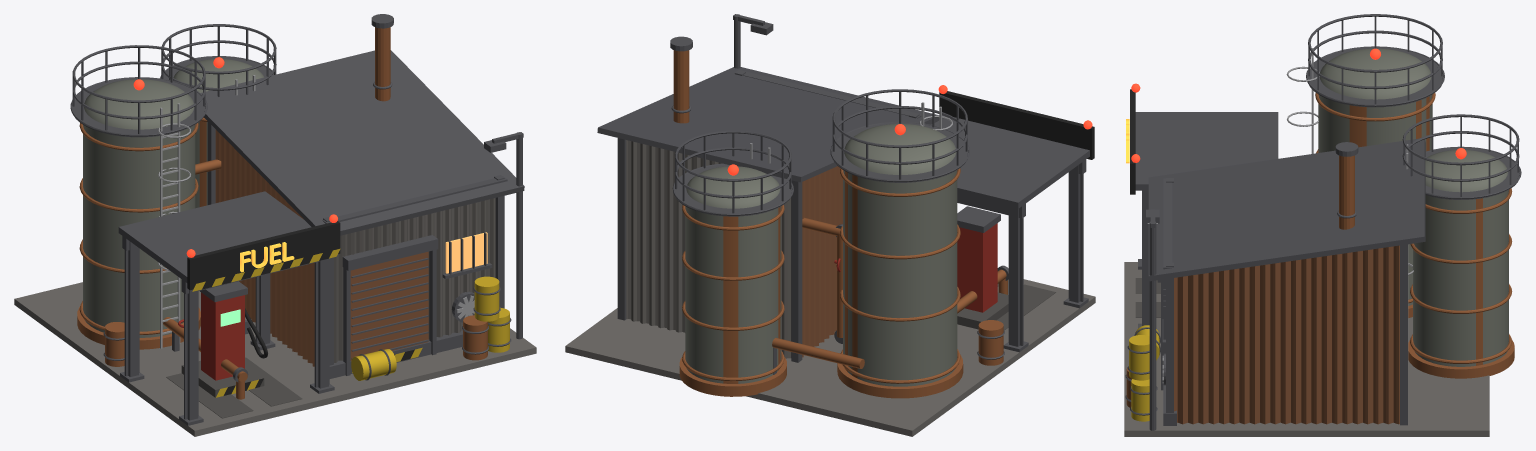
File: fuel_station.glb
3 views of the same model, side by side, from view 1: azimuth 30°, elevation 25°; view 2: azimuth 150°, elevation 25°; view 3: azimuth 270°, elevation 25° (orthographic).
Visible parts, largest first — view 1: ShedRoof, TankA, Pad, Canopy, RollerDoor, ShedFront, ShedSides, CanopyFascia, Drums, Pump, ShedFrame, TankARail (+11 smaller); view 2: TankA, TankB, Pad, ShedRoof, Canopy, ShedFront, ShedSides, ShedFrame, Pump, CanopyFascia, TankARail, Pipes (+6 smaller); view 3: ShedSides, ShedRoof, TankB, Pad, Canopy, TankA, ShedFrame, TankARail, TankBRail, TankADeck, Drums, LampPost (+4 smaller).
Boxes of the visible parts, x1,y1,x2,y2 form: ShedRoof: (200, 50, 524, 235); TankA: (77, 79, 200, 349); Pad: (14, 282, 536, 436); Canopy: (118, 191, 334, 425); RollerDoor: (342, 235, 438, 375); ShedFront: (334, 198, 495, 362); ShedSides: (215, 129, 314, 366); CanopyFascia: (187, 221, 340, 291); Drums: (103, 276, 511, 380); Pump: (181, 281, 264, 397); ShedFrame: (207, 121, 507, 378); TankARail: (72, 45, 205, 134); TankA: (837, 124, 963, 398); TankB: (679, 166, 786, 396); Pad: (565, 279, 1095, 436); ShedRoof: (597, 67, 939, 182); Canopy: (931, 115, 1089, 352); ShedFront: (626, 140, 791, 358); ShedSides: (802, 166, 842, 357); ShedFrame: (617, 70, 921, 362); Pump: (957, 206, 1008, 328); CanopyFascia: (939, 91, 1094, 159); TankARail: (832, 89, 967, 179); Pipes: (772, 217, 1008, 374); ShedSides: (1174, 245, 1399, 424); ShedRoof: (1148, 138, 1425, 281); TankB: (1408, 150, 1514, 378); Pad: (1124, 262, 1489, 436); Canopy: (1135, 112, 1278, 328); TankA: (1315, 48, 1435, 317); ShedFrame: (1163, 178, 1407, 425); TankARail: (1308, 14, 1442, 104); TankBRail: (1402, 114, 1519, 196); TankADeck: (1306, 46, 1444, 107); Drums: (1125, 325, 1160, 421); LampPost: (1146, 209, 1159, 430).
Bounding box in the file's own units: 3.52 × 2.6 × 3.48.
